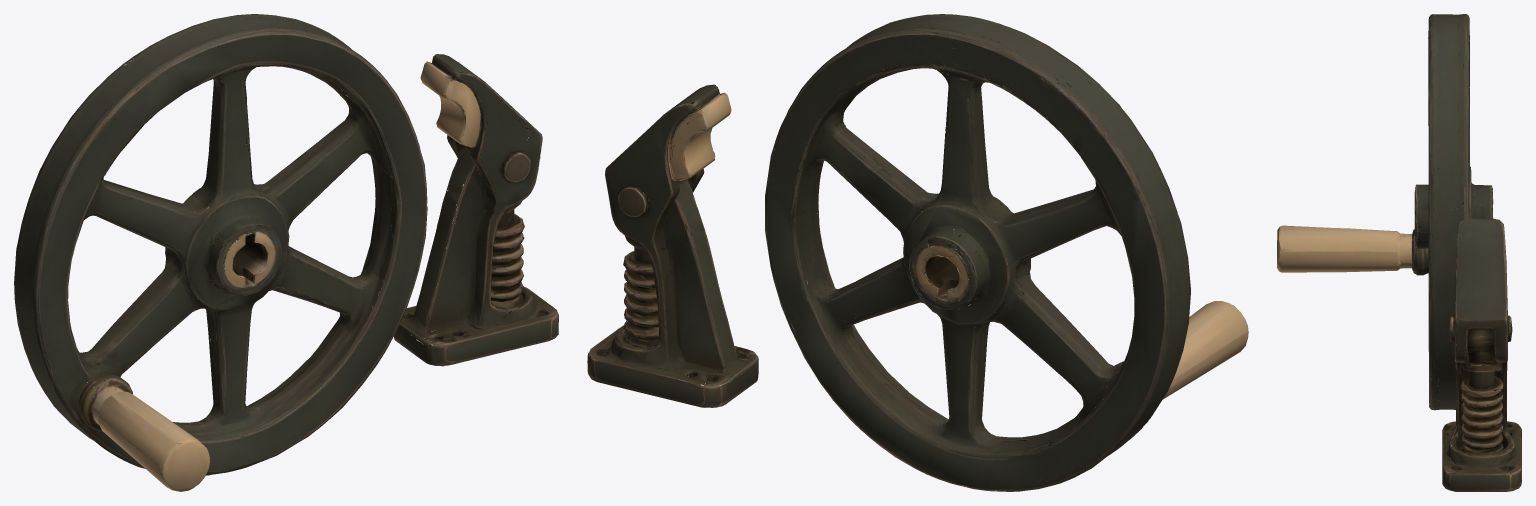
Rendered from ch05_market_shutter_handwheel_pawl_v2.glb.
The picture shows the model from 3 angles, left to right: view 1: azimuth 30°, elevation 25°; view 2: azimuth 150°, elevation 25°; view 3: azimuth 270°, elevation 25°; orthographic projection. The views are drawn at different scales.
Visible parts, largest first — view 1: HANDWHEEL, PAWL; view 2: HANDWHEEL, PAWL; view 3: HANDWHEEL.
Boxes of the visible parts, x1=… form: HANDWHEEL: x1=14, y1=14, x2=558, y2=491; PAWL: x1=14, y1=180, x2=61, y2=382; HANDWHEEL: x1=587, y1=14, x2=1248, y2=491; PAWL: x1=1145, y1=173, x2=1190, y2=379; HANDWHEEL: x1=1277, y1=14, x2=1521, y2=491.
Size of the model in its own units: 0.967 by 0.7515 by 0.4599.
1 material, 1 textured.
